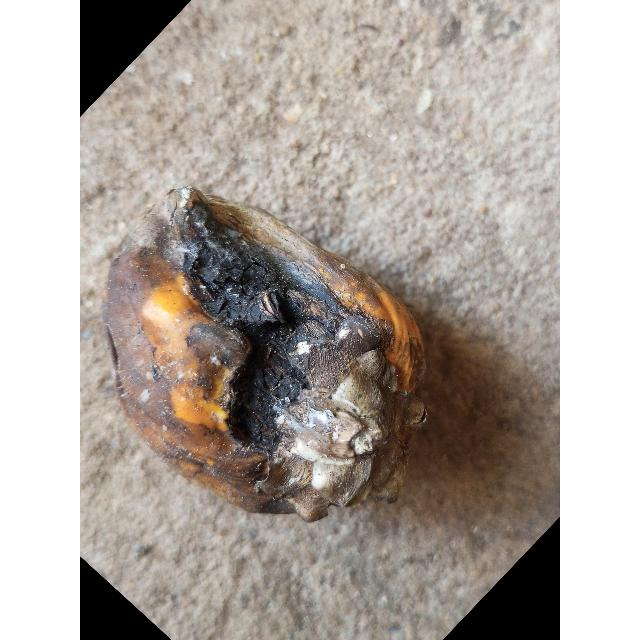damaged: (103, 188, 435, 526)
